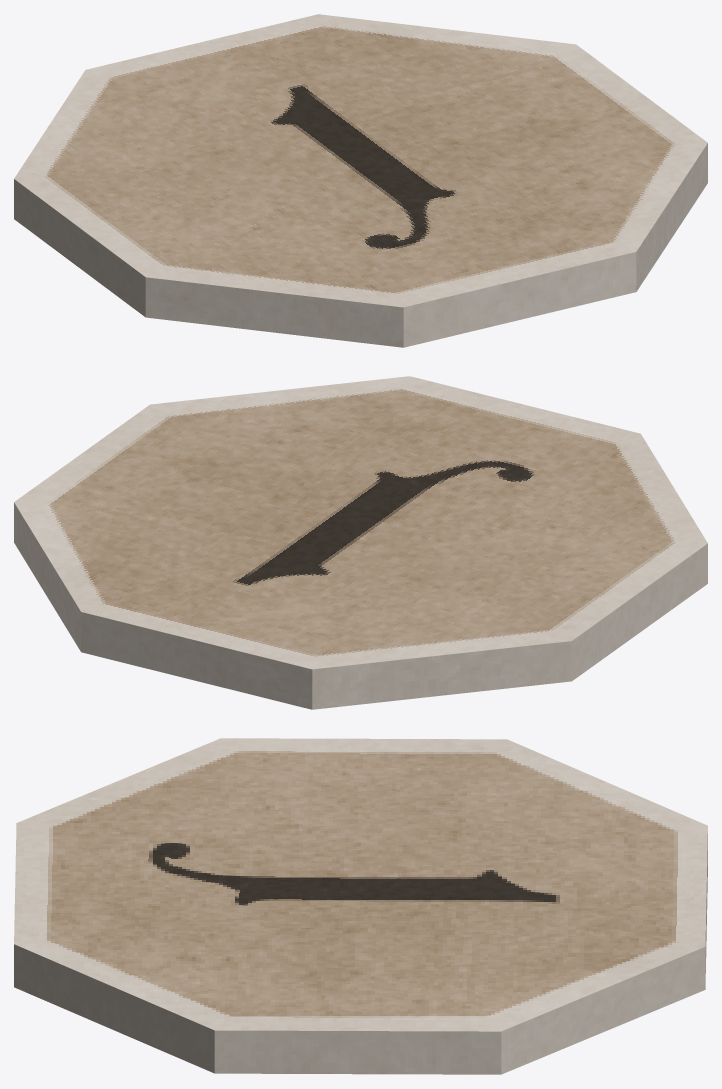
Rendered from PokerChip1.glb.
3 renders of one model, top to bottom at view 1: azimuth 30°, elevation 25°; view 2: azimuth 150°, elevation 25°; view 3: azimuth 270°, elevation 25°, orthographic. The views are drawn at different scales.
Visible parts, largest first — view 1: PokerChip1; view 2: PokerChip1; view 3: PokerChip1.
Part boxes in pixels (x1,y1,x2,y2): PokerChip1: (14,14,707,347); PokerChip1: (14,376,707,709); PokerChip1: (14,738,707,1074).
Bounding box in the file's own units: 0.0358 × 0.00245 × 0.0358.
1 material, 1 textured.
